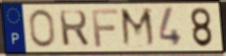4: (158, 5, 183, 50)
8: (189, 6, 214, 48)
F: (90, 8, 120, 49)
M: (118, 6, 158, 49)
O: (28, 8, 58, 49)
R: (57, 8, 91, 48)
